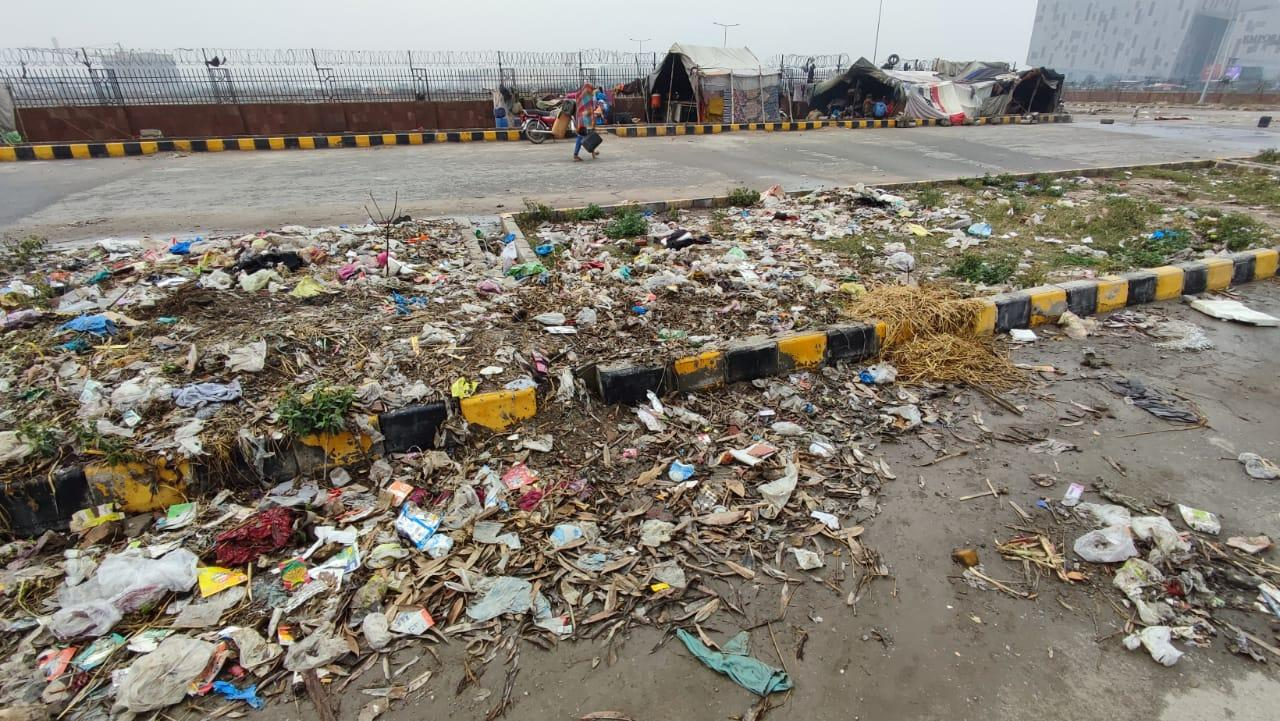garbage: (4, 224, 840, 671), (1021, 470, 1280, 698)
